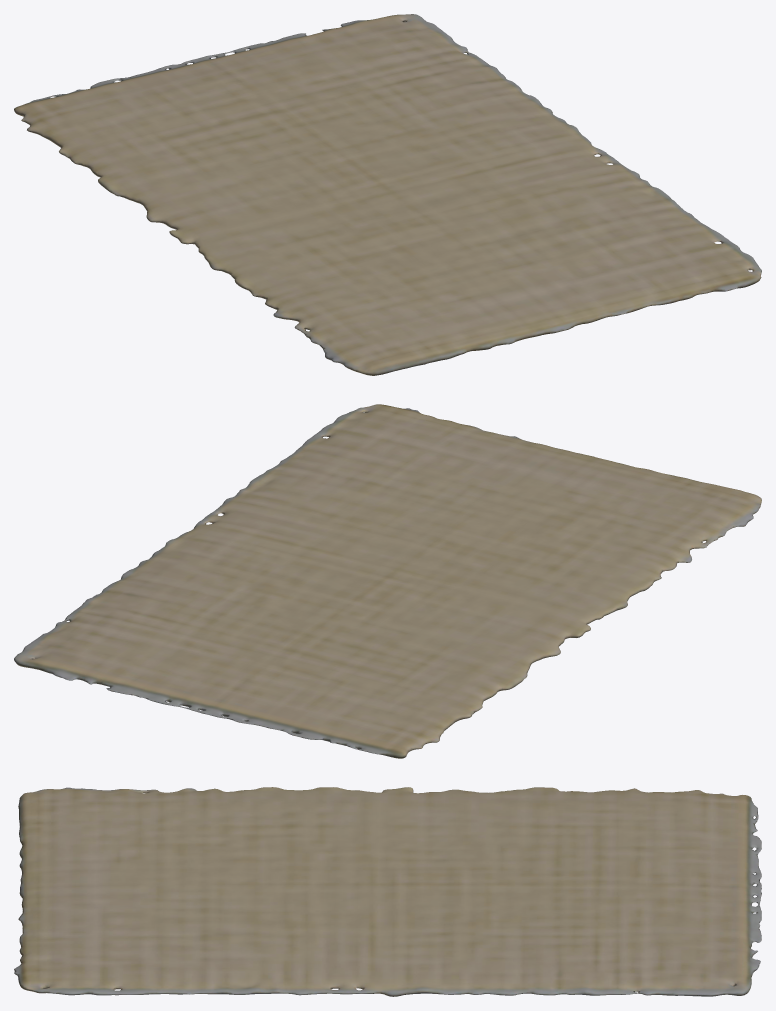
Rendered from c32f708abdc1_a_beige_carpet_with.fbx.
3 renders of one model, top to bottom at view 1: azimuth 30°, elevation 25°; view 2: azimuth 150°, elevation 25°; view 3: azimuth 270°, elevation 25°, orthographic. The views are drawn at different scales.
Visible parts, largest first — view 1: high_poly; view 2: high_poly; view 3: high_poly.
Part boxes in pixels (x1,y1,x2,y2): high_poly: (14,14,761,375); high_poly: (14,404,761,758); high_poly: (14,787,761,996).
Size of the model in its own units: 65.66 by 2.14 by 100.
